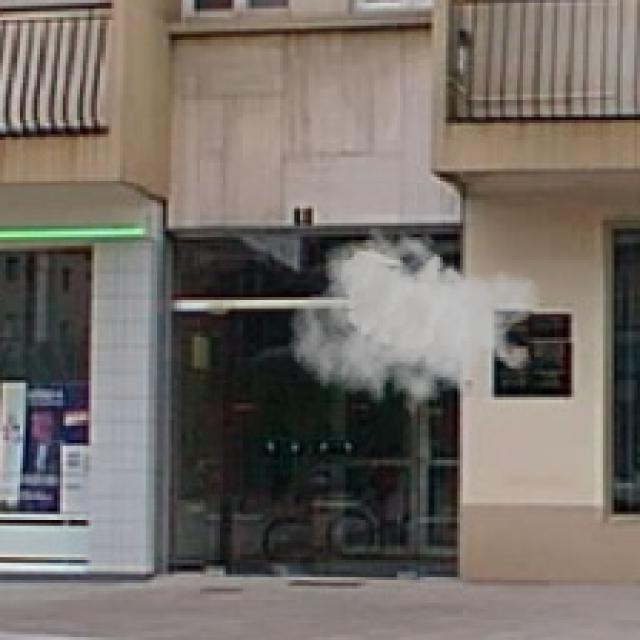Smoke: (288, 225, 543, 426)
